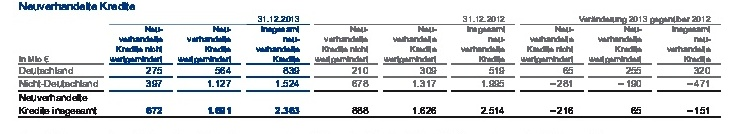table: (0, 0, 738, 134)
